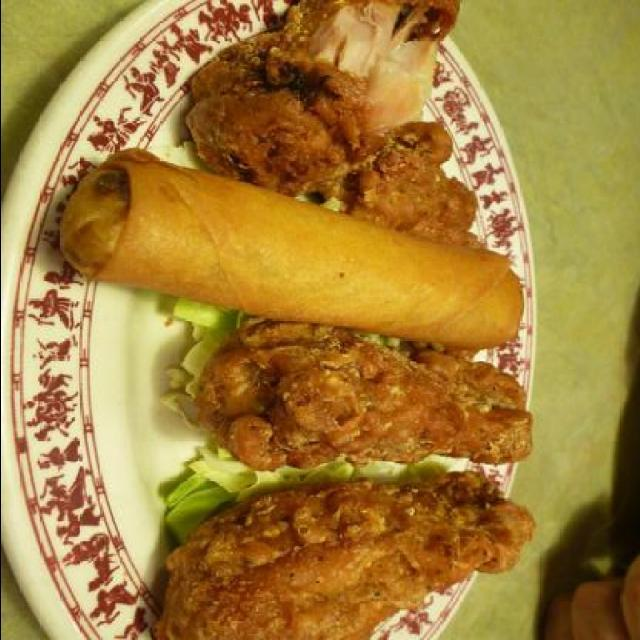Deep fried chicken wing: (167, 341, 521, 639), (199, 1, 510, 199)
